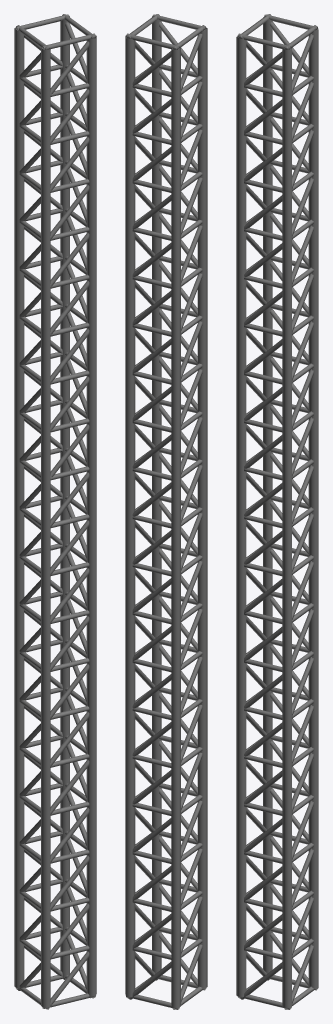
Rendered from Scaffold.fbx.
3 renders of one model, left to right at view 1: azimuth 30°, elevation 25°; view 2: azimuth 150°, elevation 25°; view 3: azimuth 330°, elevation 25°, orthographic.
Visible parts, largest first — view 1: scaff; view 2: scaff; view 3: scaff.
Part boxes in pixels (box(x1,y1,x2,y2)): scaff: box(14, 14, 96, 1009); scaff: box(125, 14, 207, 1009); scaff: box(236, 14, 318, 1009).
Bounding box in the file's own units: 59.05 × 1007 × 59.51.
1 material, 1 textured.
